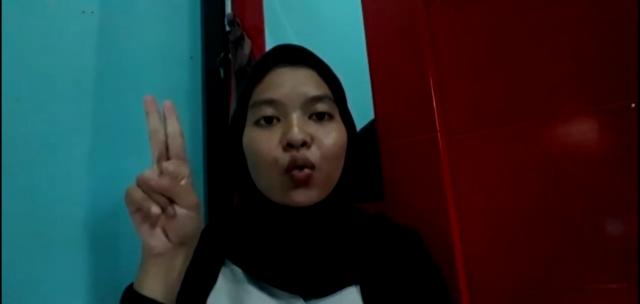U: (118, 90, 206, 252)
